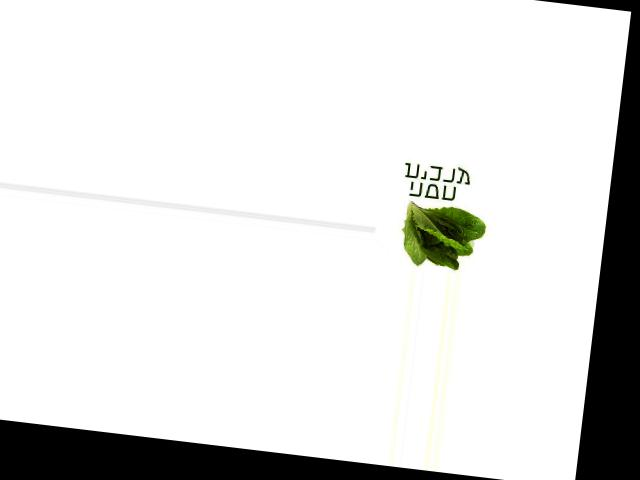lettuce: (393, 193, 489, 273)
